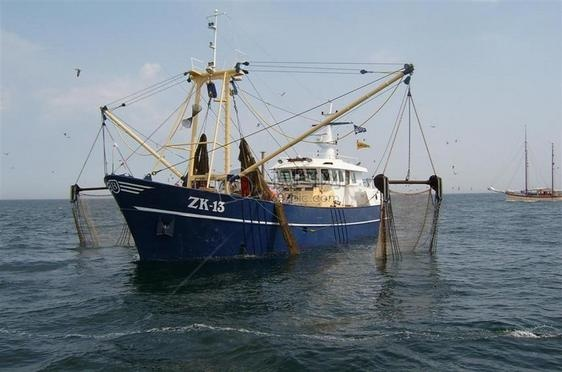otherboat: (79, 98, 384, 270)
